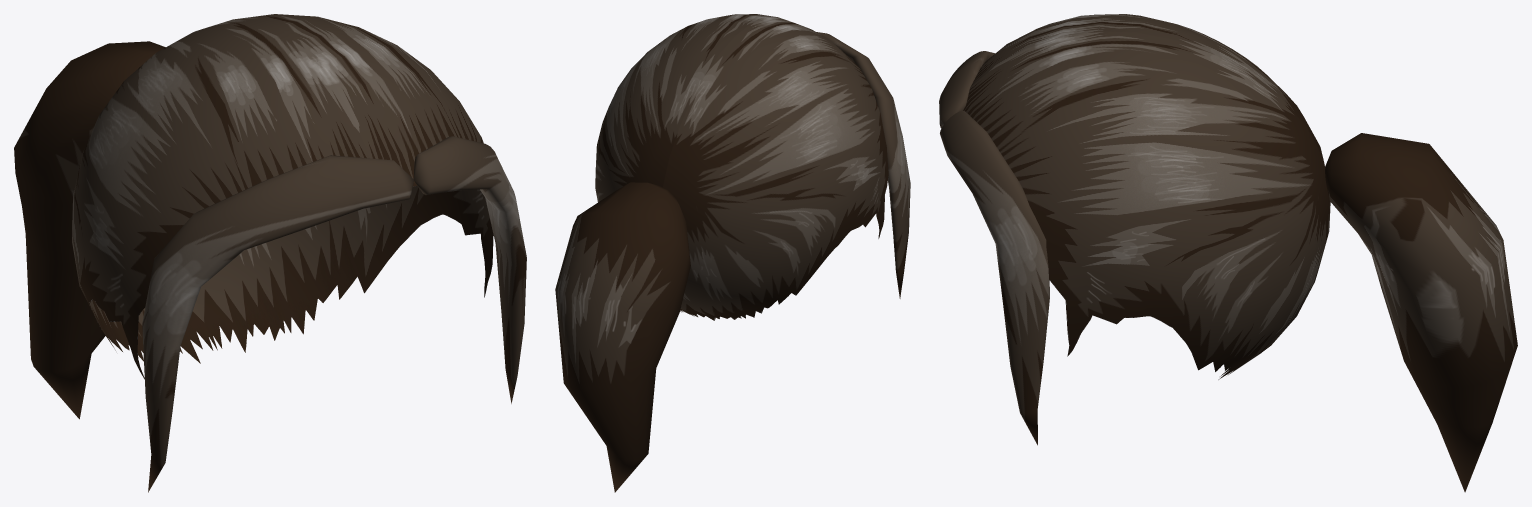
3 views of the same model, side by side, from view 1: azimuth 30°, elevation 25°; view 2: azimuth 150°, elevation 25°; view 3: azimuth 270°, elevation 25° (orthographic). The views are drawn at different scales.
Parts seen in each view (by area): view 1: hg_001_00_model; view 2: hg_001_00_model; view 3: hg_001_00_model.
Part boxes in pixels (left/top/right/bottom): hg_001_00_model: left=14, top=14, right=526, bottom=492; hg_001_00_model: left=555, top=14, right=910, bottom=492; hg_001_00_model: left=939, top=14, right=1517, bottom=492.
Size of the model in its own units: 47.66 by 64.49 by 72.57.
Materials: 1 (1 with a texture image).
